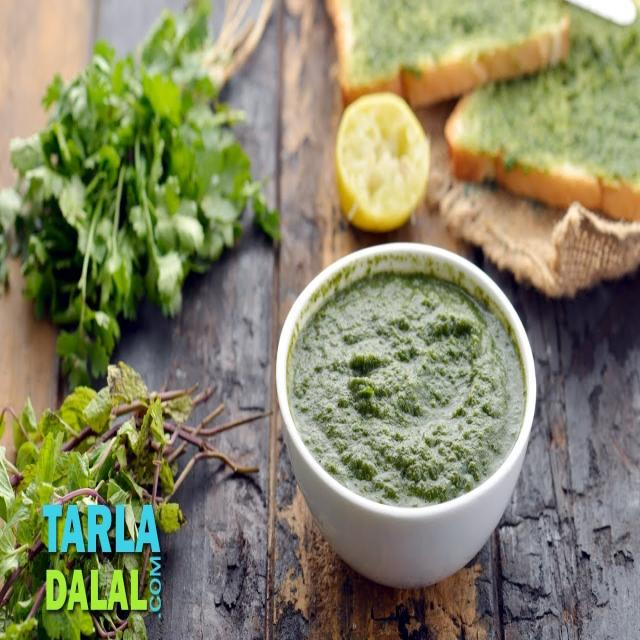puthina chutney: (282, 253, 530, 527)
